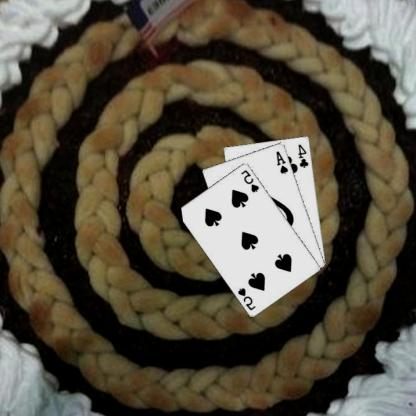4C: (298, 141, 312, 169)
5S: (237, 286, 259, 312), (241, 167, 262, 193)
AS: (275, 148, 291, 175)
